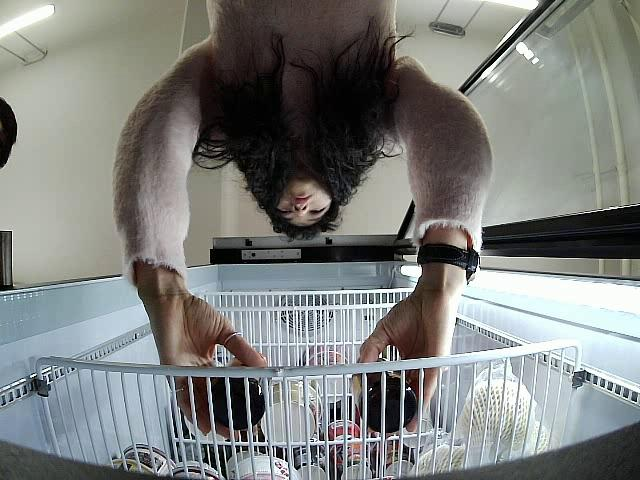00_hand: (153, 291, 268, 441), (358, 321, 454, 432)
17_vita500: (350, 356, 417, 433), (203, 377, 266, 433)
